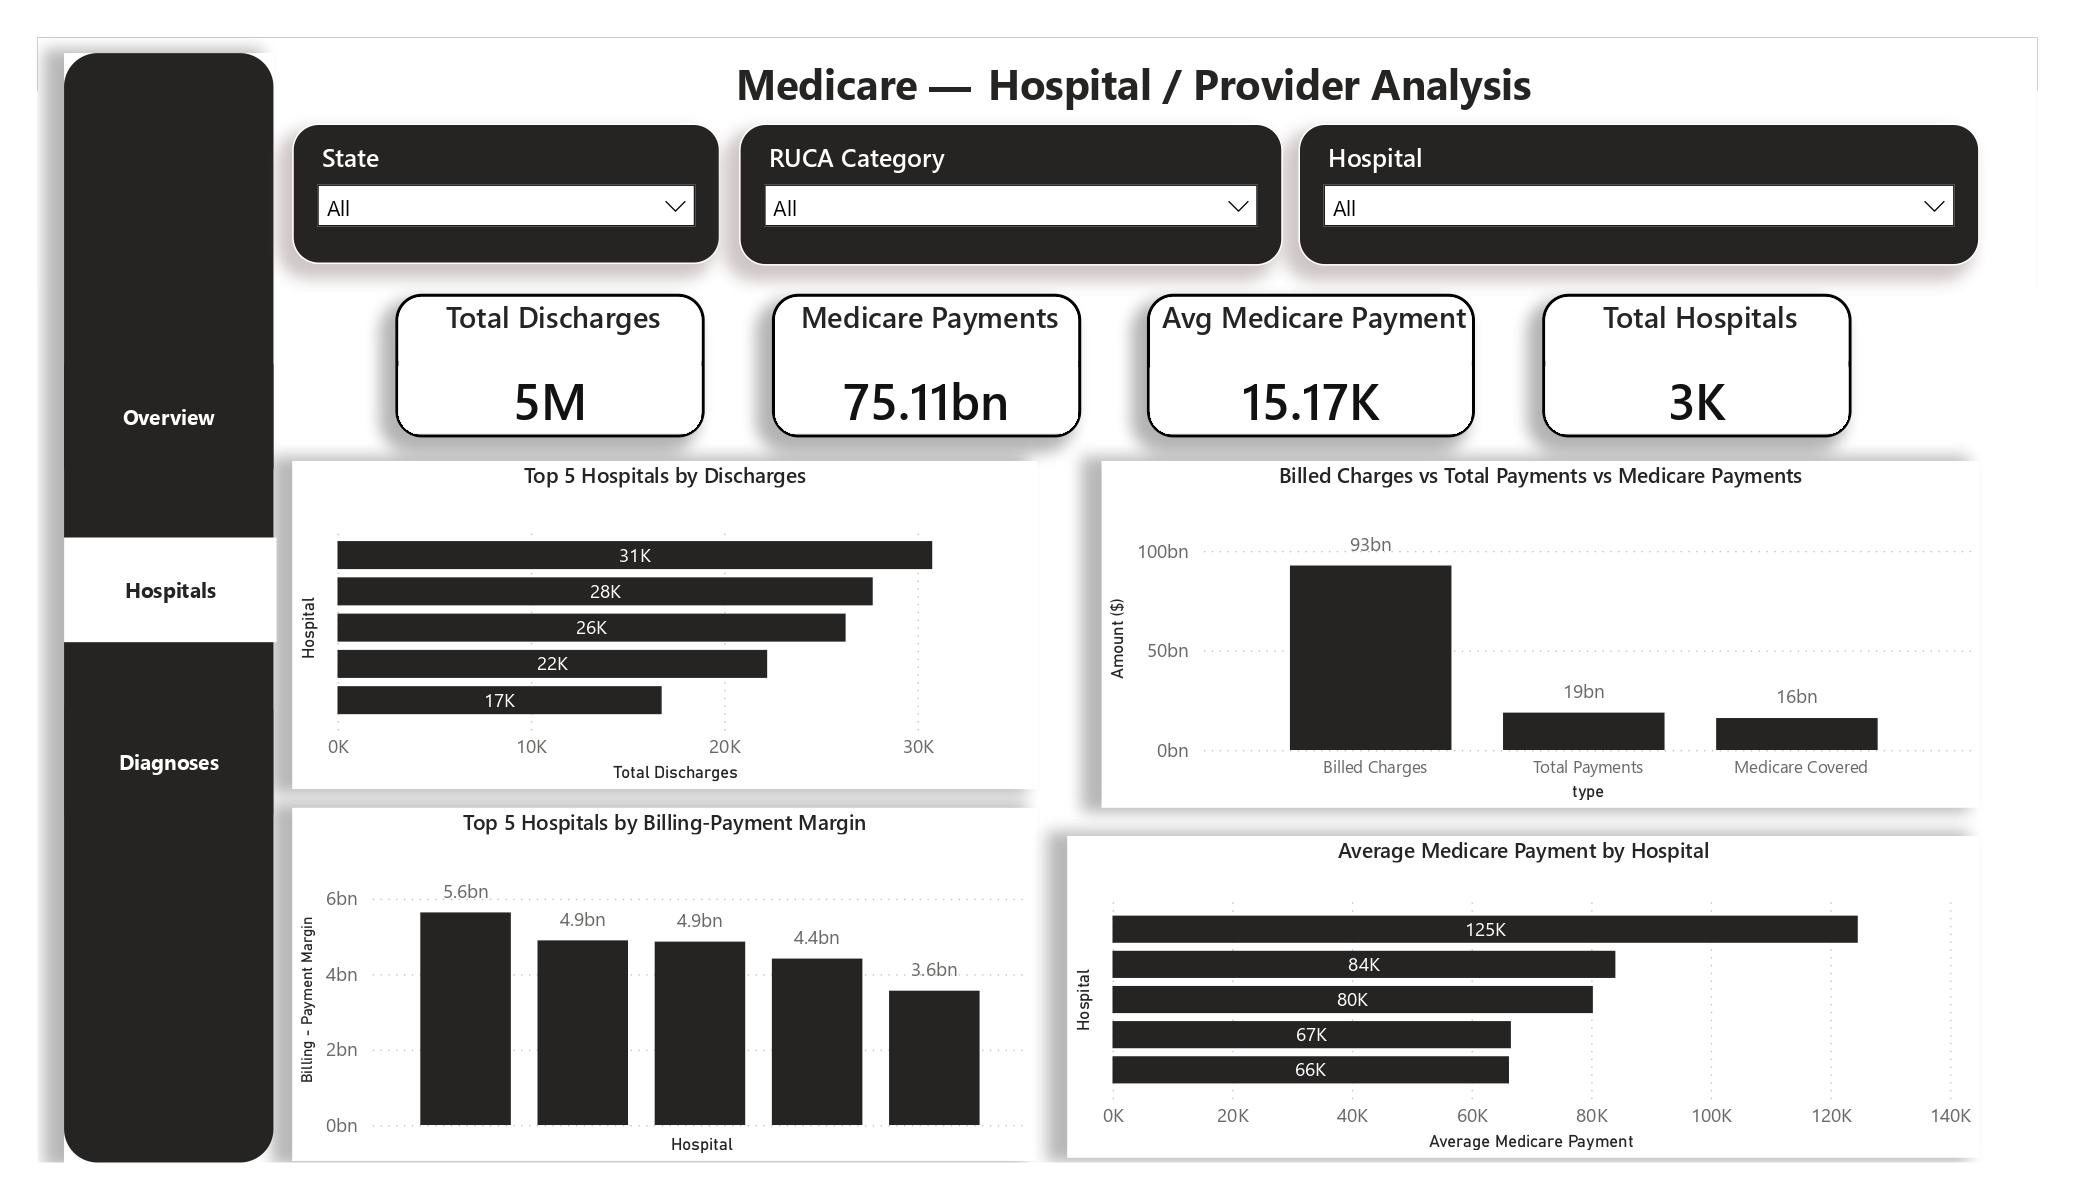

The page's visual inventory and layout, read from the dashboard file:
{"tool":"powerbi","page":{"name":" Hospital / Provider Analysis","canvas":[1280,720],"ordinal":1},"visuals":[{"type":"shape","box":[17.1,10,134.3,710],"z":0,"group":"g2"},{"type":"slicer","title":"State","fields":{"Values":["public medicare_impatient.rndrng_prvdr_state_abrvtn"]},"box":[163.2,54.8,274.3,90],"z":0,"group":"g1"},{"type":"slicer","title":"State","fields":{"Values":["public medicare_impatient.rndrng_prvdr_org_name"]},"box":[807,54.8,436,90.5],"z":0,"group":"g3"},{"type":"textbox","box":[244.3,5.7,914.3,50],"z":1000},{"type":"group","id":"g1","title":"Group 2","box":[163.2,54.8,633.6,90.5],"z":1000,"group":"g3"},{"type":"slicer","title":"RUCA Category","fields":{"Values":["public medicare_impatient.rndrng_prvdr_ruca_desc"]},"box":[448.8,54.8,348,90.5],"z":1000,"group":"g1"},{"type":"cardVisual","title":"Total Discharges","fields":{"Data":["public medicare_impatient.Total Discharges"]},"box":[228.6,164.3,198.6,91.4],"z":2000},{"type":"cardVisual","title":"Total Hospitals ","fields":{"Data":["public medicare_impatient.Total Hospitals"]},"box":[962.9,164.3,198.6,91.4],"z":3000},{"type":"cardVisual","title":"Avg Medicare Payment","fields":{"Data":["public medicare_impatient.Average Medicare Payment"]},"box":[710.5,164.3,210,91.4],"z":4000},{"type":"cardVisual","title":"Medicare Payments","fields":{"Data":["public medicare_impatient.Total Medicare Payments"]},"box":[469.5,164.3,198.6,91.4],"z":5000},{"type":"clusteredBarChart","title":"Top 5 Hospitals by Discharges","fields":{"Category":["public medicare_impatient.rndrng_prvdr_org_name"],"Y":["public medicare_impatient.Total Discharges"]},"box":[162.9,271.4,477.1,210],"z":6000},{"type":"clusteredColumnChart","title":"Top 5 Hospitals by Billing-Payment Margin","fields":{"Category":["public medicare_impatient.rndrng_prvdr_org_name"],"Y":["public medicare_impatient.Billing - Payment Margin"]},"box":[162.9,492.9,477.1,225.7],"z":7000},{"type":"clusteredColumnChart","title":"Billed Charges vs Total Payments vs Medicare Payments","fields":{"Category":["Payment Type.type"],"Y":["Payment Type.Payment Amount"]},"box":[681.4,271.4,561.4,221.4],"z":8000},{"type":"clusteredBarChart","title":"Average Medicare Payment by Hospital","fields":{"Category":["public medicare_impatient.rndrng_prvdr_org_name"],"Y":["public medicare_impatient.Average Medicare Payment"]},"box":[658.6,511.4,584.3,205.7],"z":9000},{"type":"group","id":"g2","title":"Group 1","box":[17.1,10,135.7,710],"z":12000},{"type":"group","id":"g3","title":"Group 3","box":[163.2,54.8,1079.8,90.5],"z":12007},{"type":"actionButton","box":[17.1,430,134.3,67.1],"z":13000,"group":"g2"},{"type":"actionButton","box":[17.1,208.6,134.3,67.1],"z":14000,"group":"g2"},{"type":"actionButton","box":[17.1,320,135.7,67.1],"z":15000,"group":"g2"}]}

Visuals, with their boxes on the page's 1280x720 design canvas (x1, y1, x2, y2). These are canvas units, not pixel positions in the 2075x1200 screenshot, which may show the page scaled, cropped or inside an application window:
shape: [x1=17, y1=10, x2=151, y2=720]
"State" slicer: [x1=163, y1=55, x2=438, y2=145]
"State" slicer: [x1=807, y1=55, x2=1243, y2=145]
textbox: [x1=244, y1=6, x2=1159, y2=56]
"Group 2" group: [x1=163, y1=55, x2=797, y2=145]
"RUCA Category" slicer: [x1=449, y1=55, x2=797, y2=145]
"Total Discharges" cardVisual: [x1=229, y1=164, x2=427, y2=256]
"Total Hospitals " cardVisual: [x1=963, y1=164, x2=1162, y2=256]
"Avg Medicare Payment" cardVisual: [x1=710, y1=164, x2=920, y2=256]
"Medicare Payments" cardVisual: [x1=470, y1=164, x2=668, y2=256]
"Top 5 Hospitals by Discharges" clusteredBarChart: [x1=163, y1=271, x2=640, y2=481]
"Top 5 Hospitals by Billing-Payment Margin" clusteredColumnChart: [x1=163, y1=493, x2=640, y2=719]
"Billed Charges vs Total Payments vs Medicare Payments" clusteredColumnChart: [x1=681, y1=271, x2=1243, y2=493]
"Average Medicare Payment by Hospital" clusteredBarChart: [x1=659, y1=511, x2=1243, y2=717]
"Group 1" group: [x1=17, y1=10, x2=153, y2=720]
"Group 3" group: [x1=163, y1=55, x2=1243, y2=145]
actionButton: [x1=17, y1=430, x2=151, y2=497]
actionButton: [x1=17, y1=209, x2=151, y2=276]
actionButton: [x1=17, y1=320, x2=153, y2=387]
